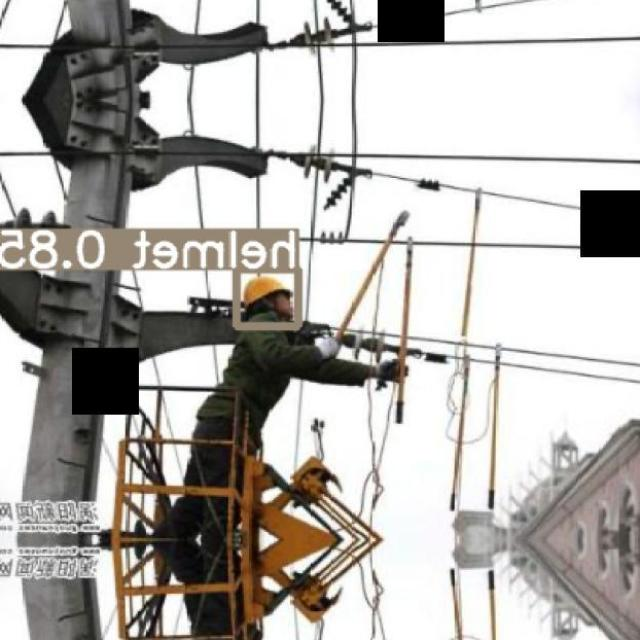helmet: (243, 274, 293, 306)
